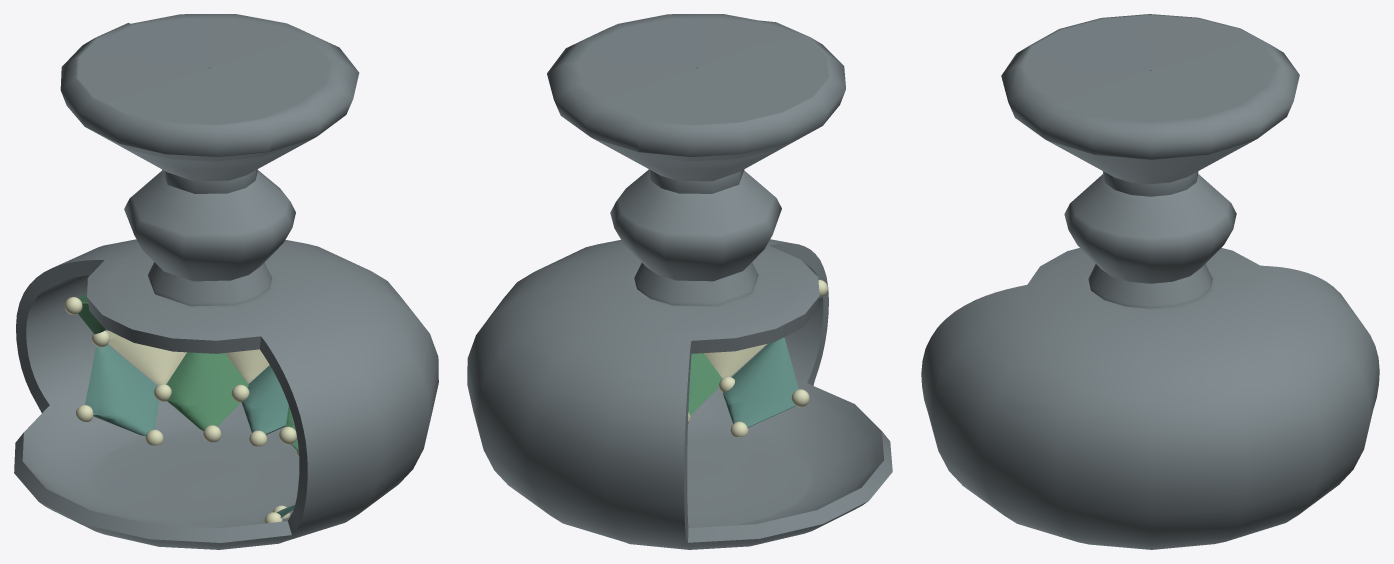
Rendered from bottle and wallpaper.fbx.
The picture shows the model from 3 angles, left to right: view 1: azimuth 30°, elevation 25°; view 2: azimuth 150°, elevation 25°; view 3: azimuth 270°, elevation 25°; orthographic projection.
Visible parts, largest first — view 1: revolvedSurface1, boundarySurface29, boundarySurface27, boundarySurface25, boundarySurface28, boundarySurface26; view 2: revolvedSurface1, boundarySurface17, boundarySurface19, boundarySurface18; view 3: revolvedSurface1.
Boxes of the visible parts, box(x1,y1,x2,y2) form: revolvedSurface1: box(14, 14, 438, 549); boundarySurface29: box(85, 344, 158, 436); boundarySurface27: box(166, 352, 248, 430); boundarySurface25: box(241, 365, 288, 434); boundarySurface28: box(106, 330, 186, 384); boundarySurface26: box(225, 349, 269, 383); revolvedSurface1: box(467, 14, 892, 549); boundarySurface17: box(723, 337, 798, 427); boundarySurface19: box(688, 353, 722, 415); boundarySurface18: box(704, 344, 766, 378); revolvedSurface1: box(921, 14, 1379, 549).
Bounding box in the file's own units: 11.97 × 13.14 × 12.86.
